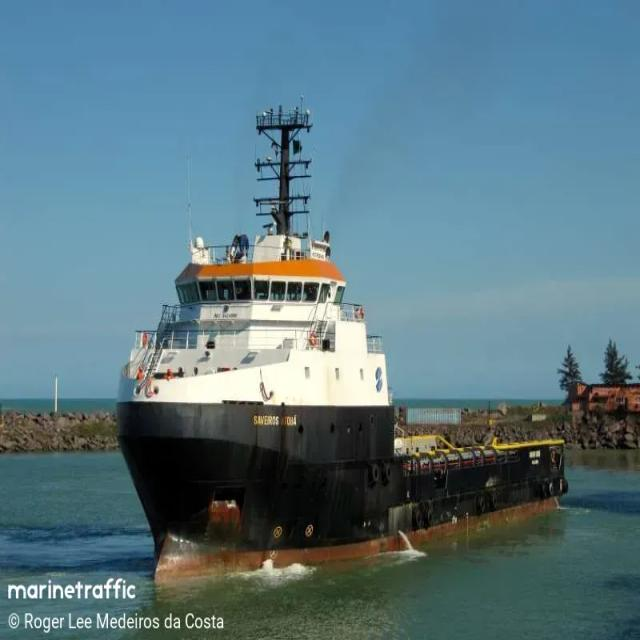Offshore: (116, 107, 567, 578)
